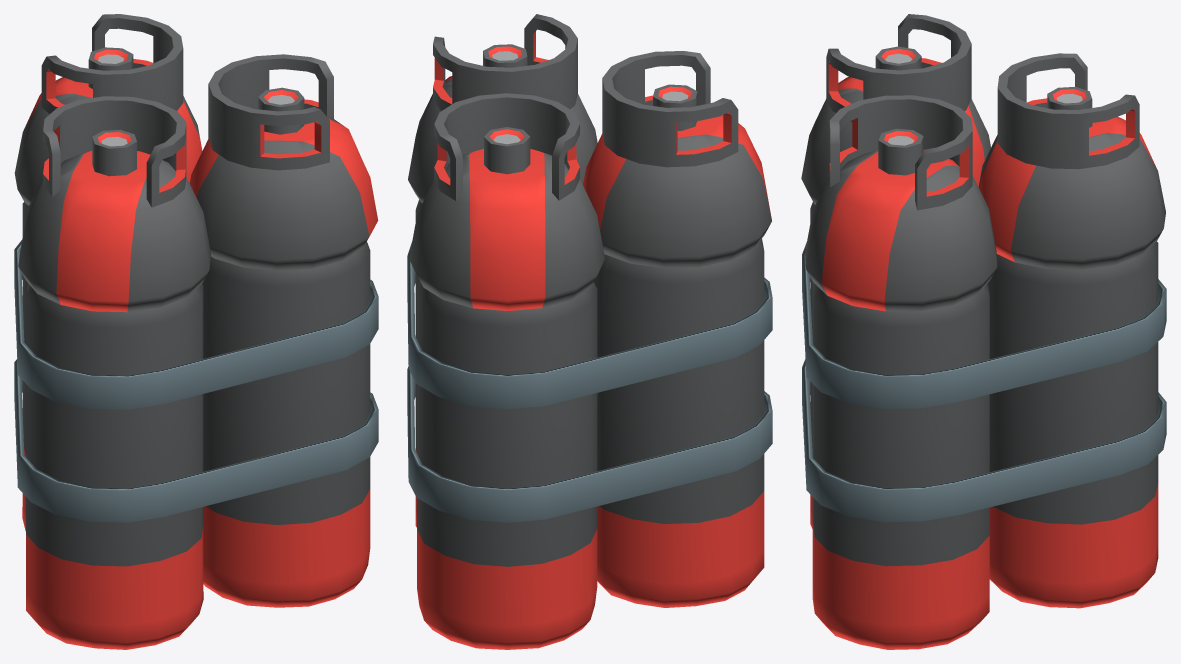
File: Baloon_014.glb
3 renders of one model, left to right at view 1: azimuth 30°, elevation 25°; view 2: azimuth 150°, elevation 25°; view 3: azimuth 270°, elevation 25°, orthographic.
Visible parts, largest first — view 1: Baloon_014; view 2: Baloon_014; view 3: Baloon_014.
Part boxes in pixels (x1,y1,x2,y2): Baloon_014: [14, 14, 378, 649]; Baloon_014: [407, 14, 772, 649]; Baloon_014: [801, 14, 1166, 649].
Size of the model in its own units: 0.7695 by 1.07 by 0.7247.
Materials: 2 (2 with a texture image).
